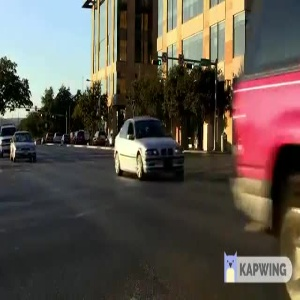car: (109, 114, 191, 189), (8, 129, 40, 162)
